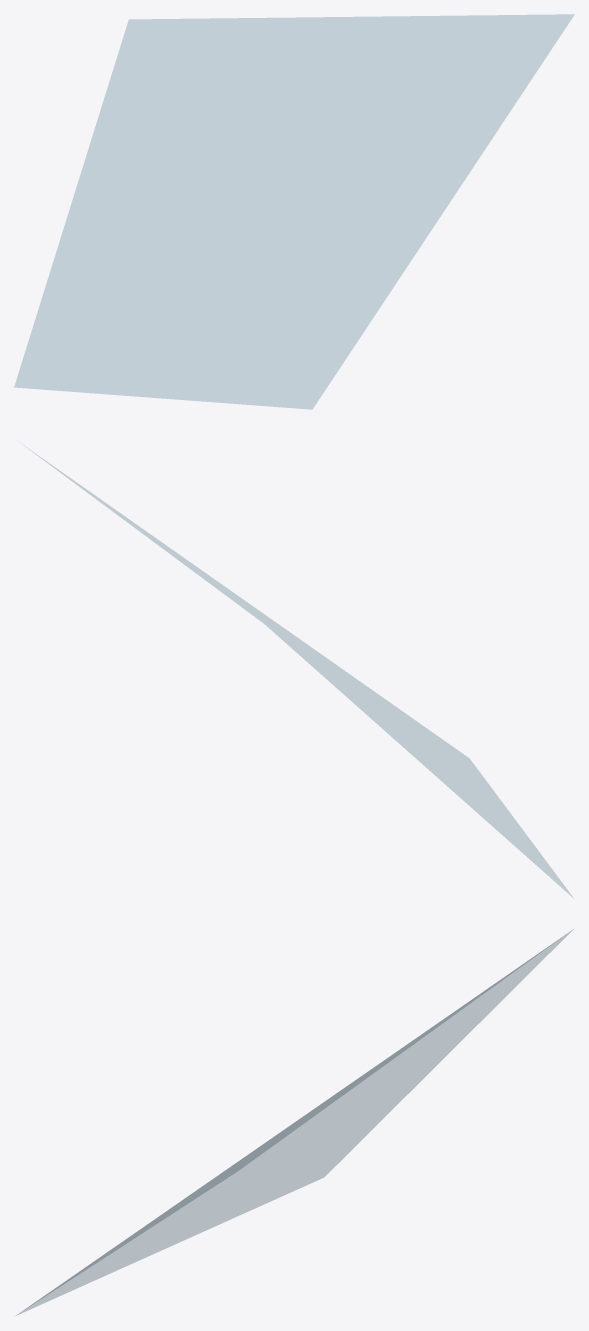
The model's file is CaptainsQuarters_Glass_08.fbx.
The picture shows the model from 3 angles, top to bottom: view 1: azimuth 30°, elevation 25°; view 2: azimuth 150°, elevation 25°; view 3: azimuth 270°, elevation 25°; orthographic projection. The views are drawn at different scales.
Parts seen in each view (by area): view 1: CaptainsQuarters_Glass_08; view 2: CaptainsQuarters_Glass_08; view 3: CaptainsQuarters_Glass_08.
Part boxes in pixels (box(x1,y1,x2,y2)): CaptainsQuarters_Glass_08: box(14, 14, 574, 409); CaptainsQuarters_Glass_08: box(26, 447, 572, 896); CaptainsQuarters_Glass_08: box(16, 929, 573, 1315).
Size of the model in its own units: 1799 by 852 by 1077.
